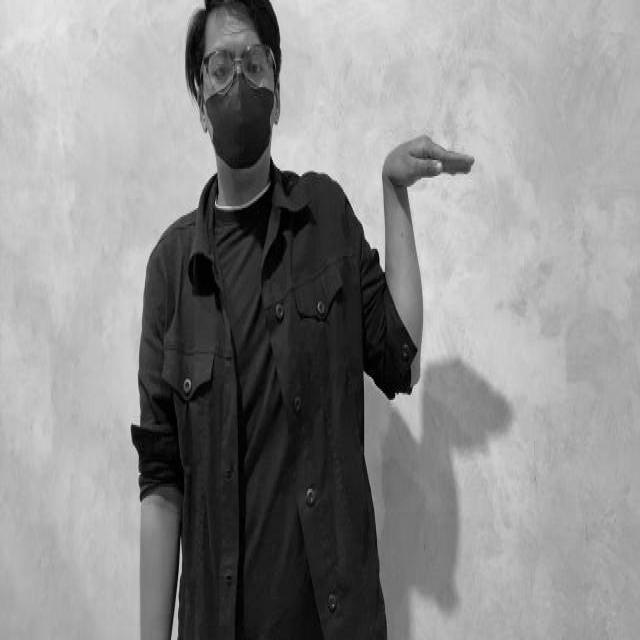Z: (356, 107, 478, 419)
